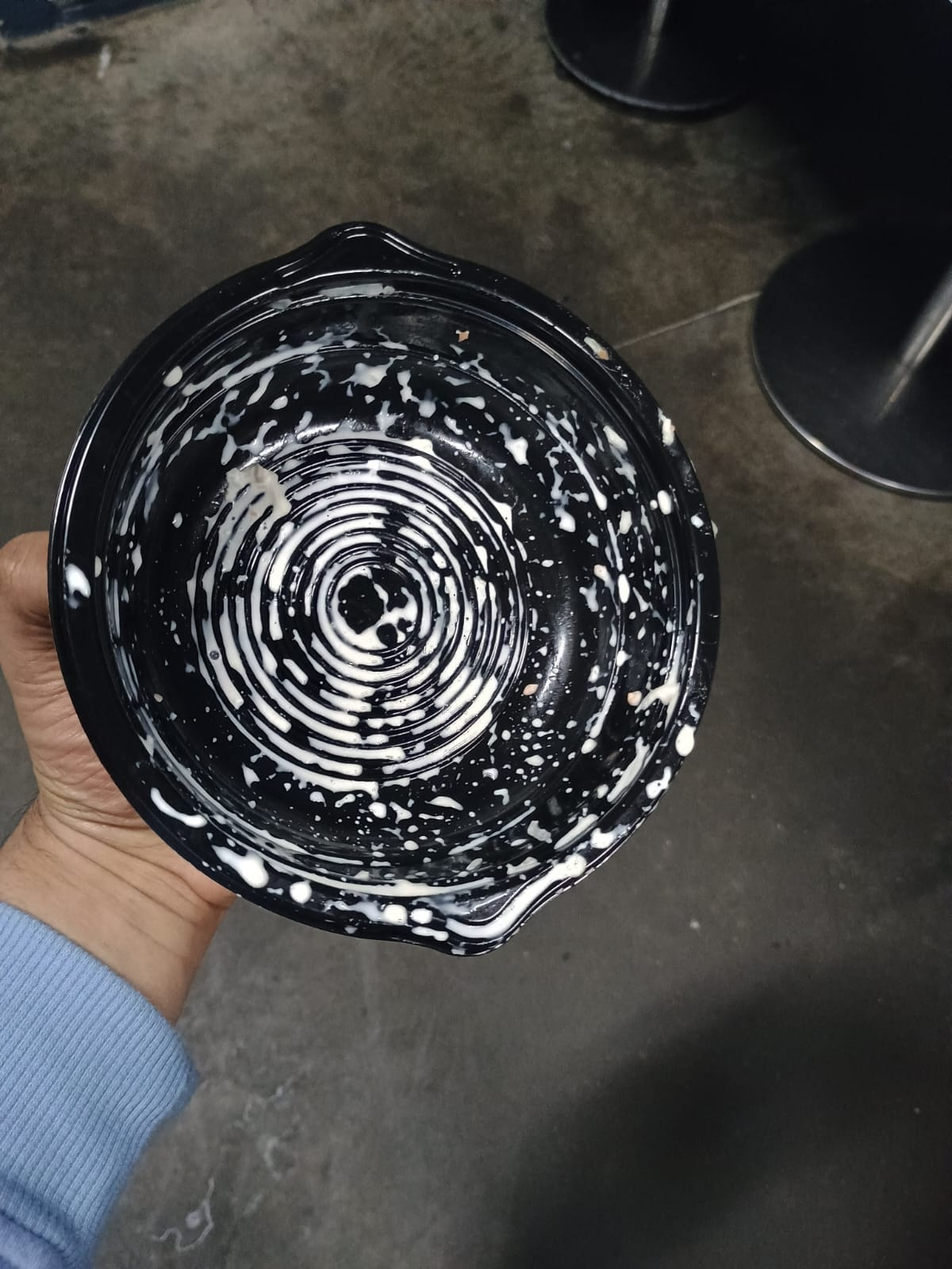Ordinario: (55, 221, 724, 959)
